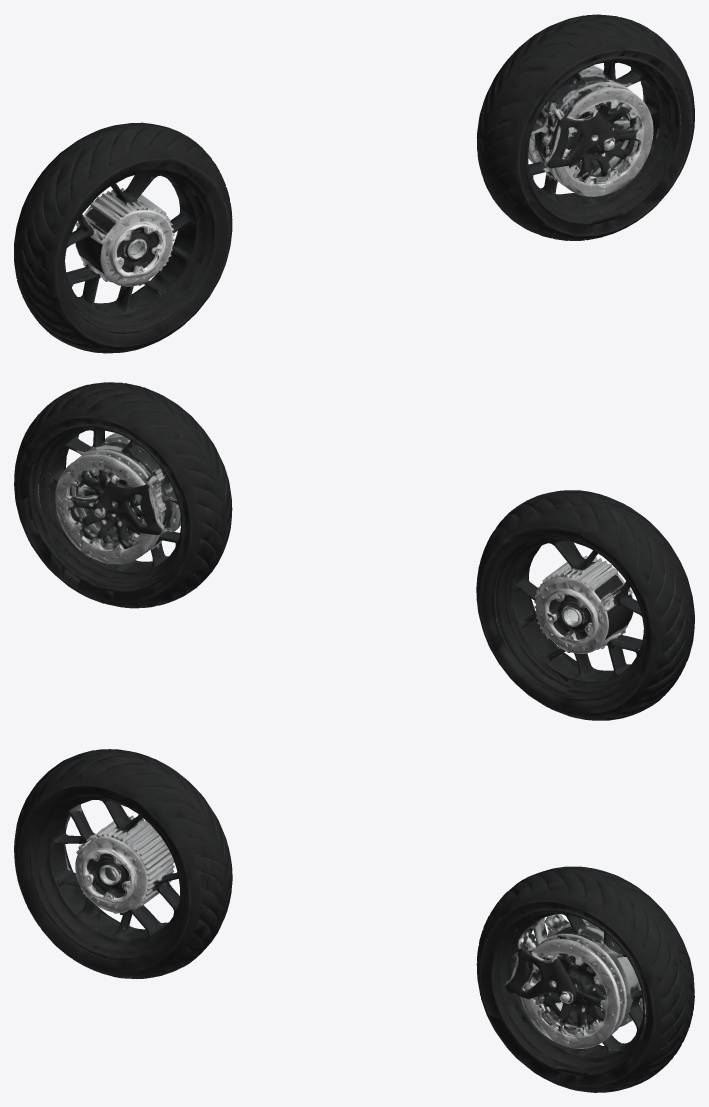
Rendered from 3_wheels.glb.
3 views of the same model, one above another, from view 1: azimuth 30°, elevation 25°; view 2: azimuth 150°, elevation 25°; view 3: azimuth 330°, elevation 25° (orthographic).
Parts seen in each view (by area): view 1: Mesh_0; view 2: Mesh_0; view 3: Mesh_0.
Part boxes in pixels (left/top/right/bottom): Mesh_0: left=14, top=14, right=694, bottom=353; Mesh_0: left=14, top=382, right=694, bottom=720; Mesh_0: left=14, top=749, right=694, bottom=1092.
Size of the model in its own units: 1.92 by 0.6 by 0.2362.
Materials: 1 (1 with a texture image).
